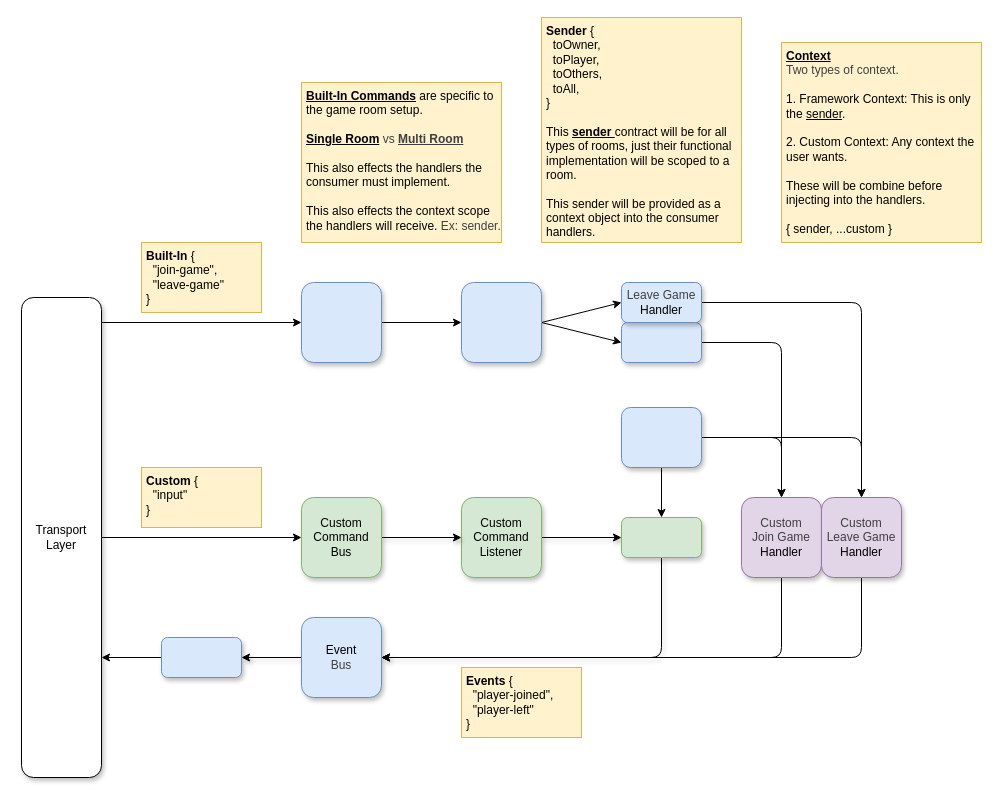
This 999x802 diagram has some shape labels left out. The shapes that lost their labels are listed below. From the top down, each one's centre as x and y in pixels, then its label:
At (342,324): "Built-In Command Bus".
At (502,324): "Built-In Command Listener".
At (662,344): "Join Game Handler".
At (662,438): "Framework Context { sender }".
At (662,538): "Custom Handler".
At (202,658): "Sender Listener".
